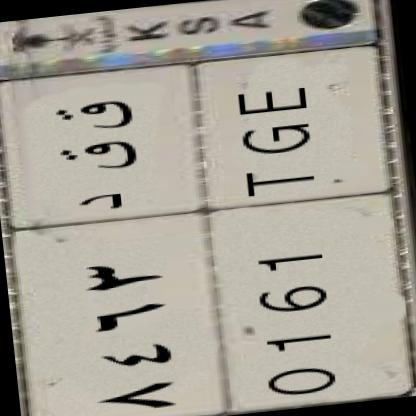english: (187, 32, 416, 413)
